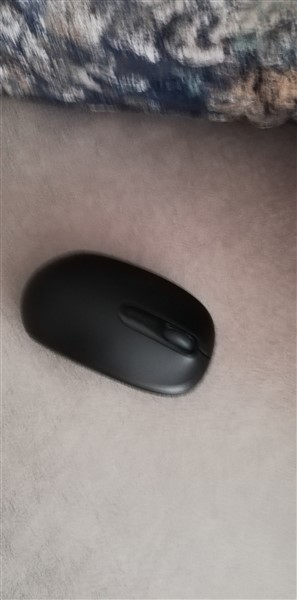mouse: (18, 244, 225, 403)
